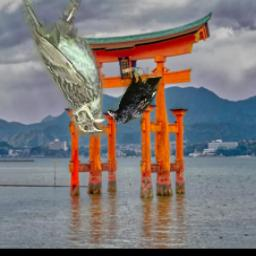Crow: (108, 67, 163, 124)
Sparrow: (23, 0, 108, 143)
